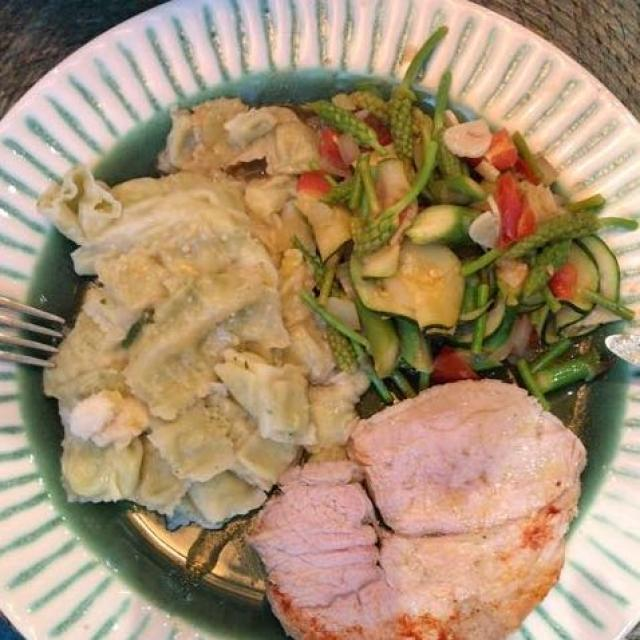mixed-vegetables: (279, 11, 628, 413)
